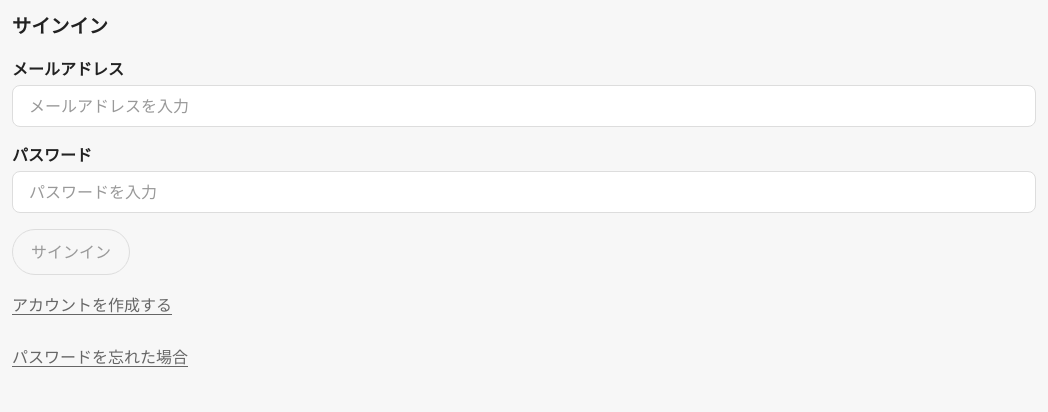
CloudSyncAccountSignInForm › サインインのパスワードを空にして離れるとエラーを表示してボタンを無効にする
Check: the button "サインイン" is disabled, box [12,229,130,275]
Check: the text "パスワードを入力してください" is not shown
In the field labelled "メールアドレス": (524, 106) [12,85,1036,127], type "user@example.com"
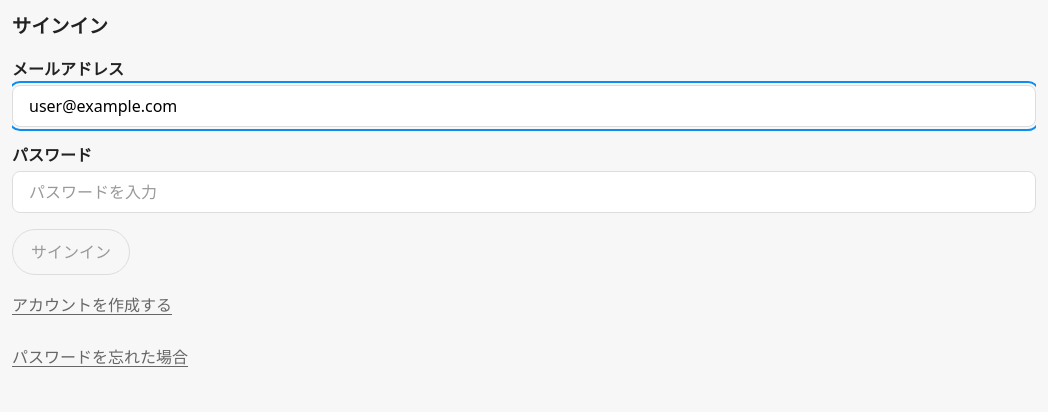
Click the password field labelled "パスワード": (524, 192) [12,171,1036,213]
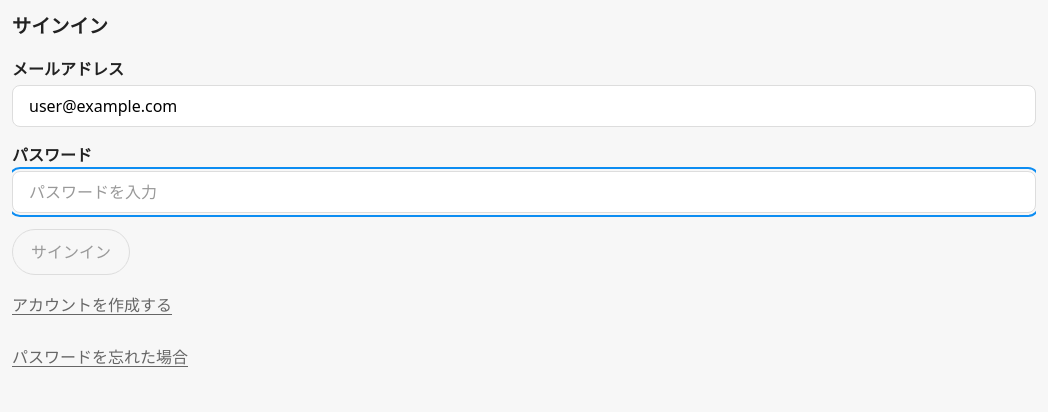
Leave the password field labelled "パスワード", box [12,171,1036,213]
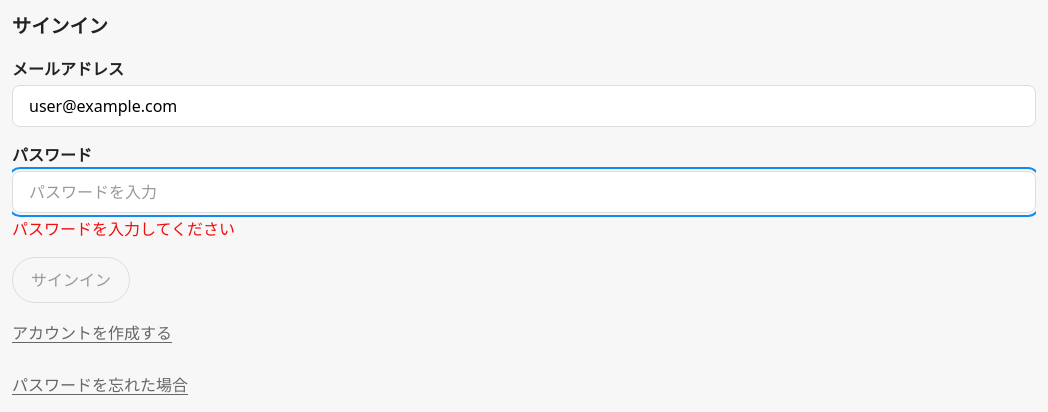
Check: the button "サインイン" is disabled, box [12,257,130,303]
Check: the text "パスワードを入力してください" is shown, box [12,218,235,240]
